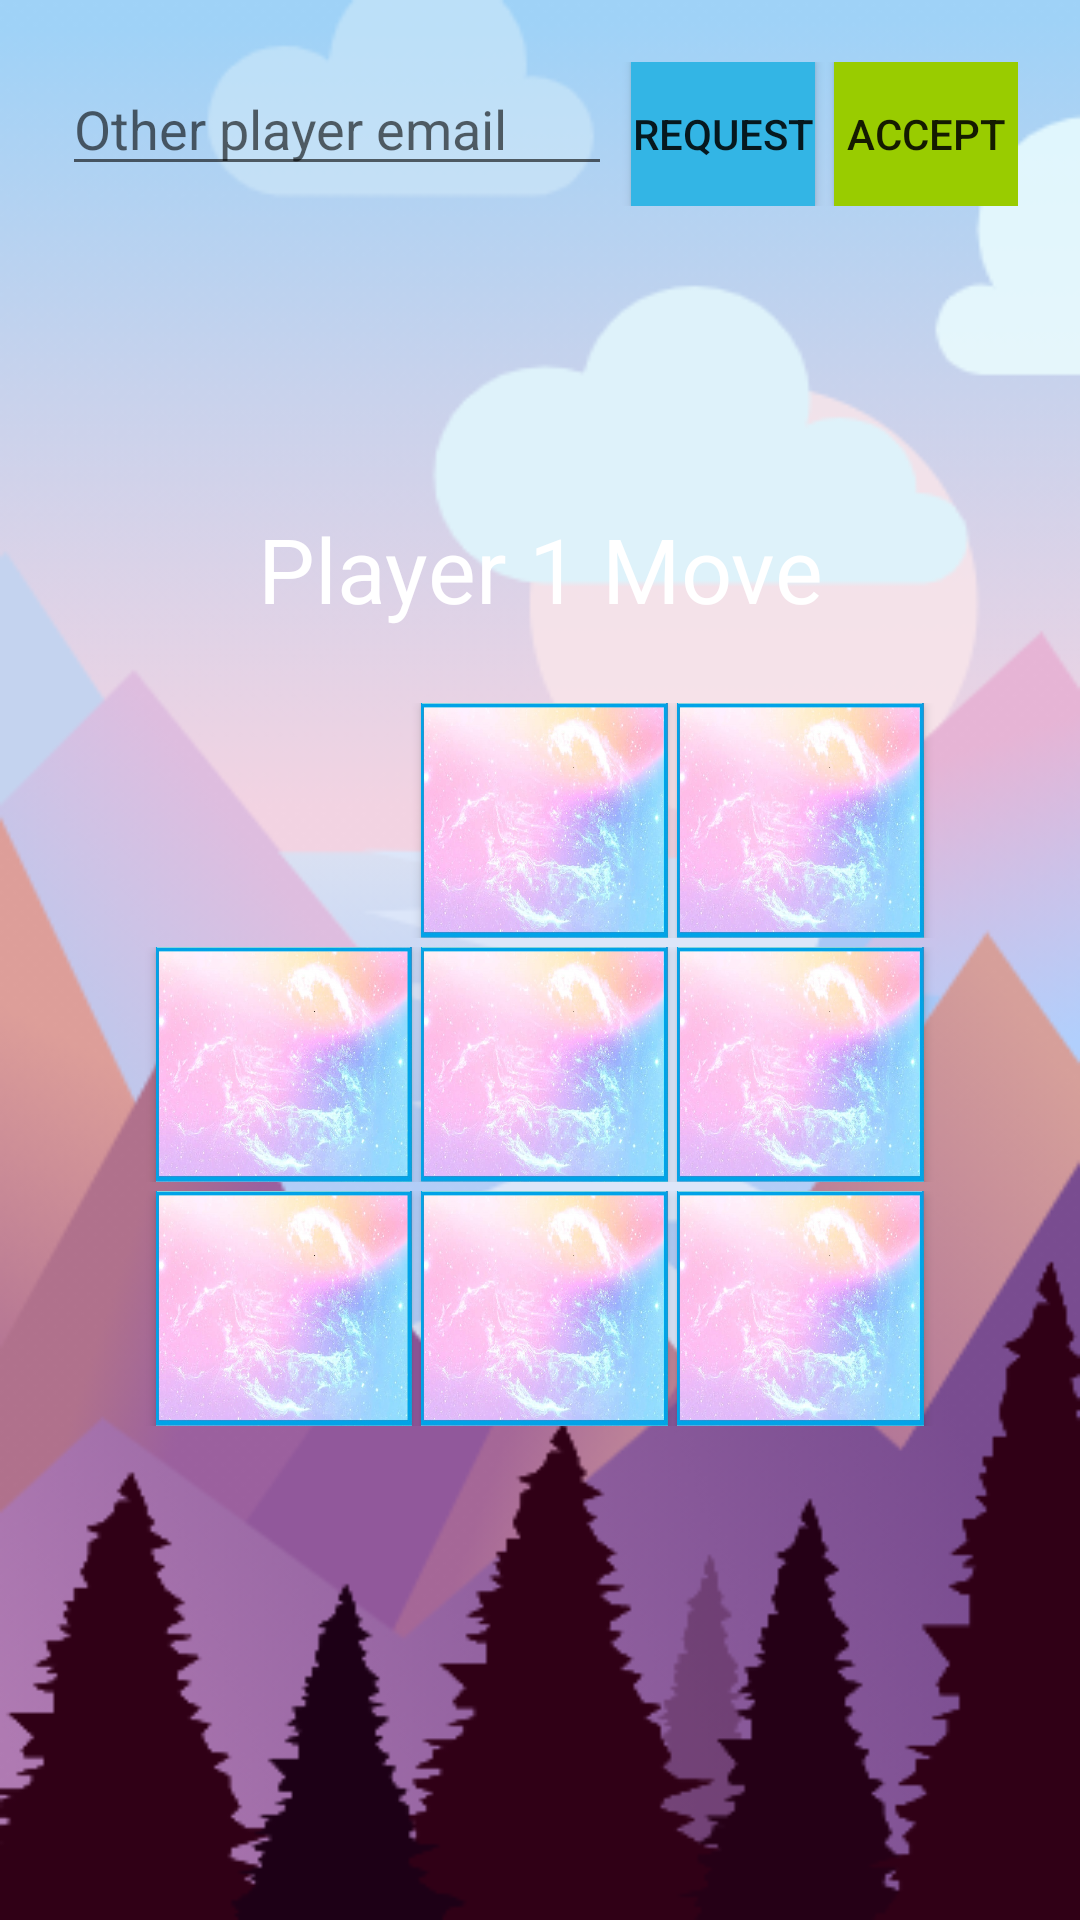

Screen size 1080x1920. Icon name, then its center in pixels as (x=x, y=y):
kotak: (x=544, y=820), (x=800, y=820), (x=284, y=1064), (x=544, y=1064), (x=800, y=1064), (x=284, y=1308), (x=544, y=1308), (x=800, y=1308)
